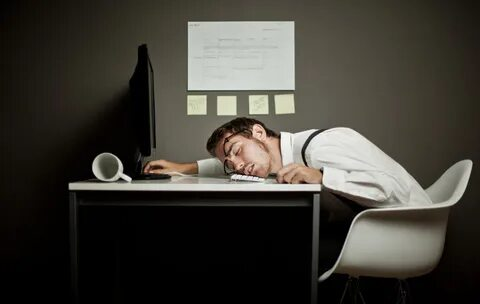sleep: (158, 116, 421, 208)
